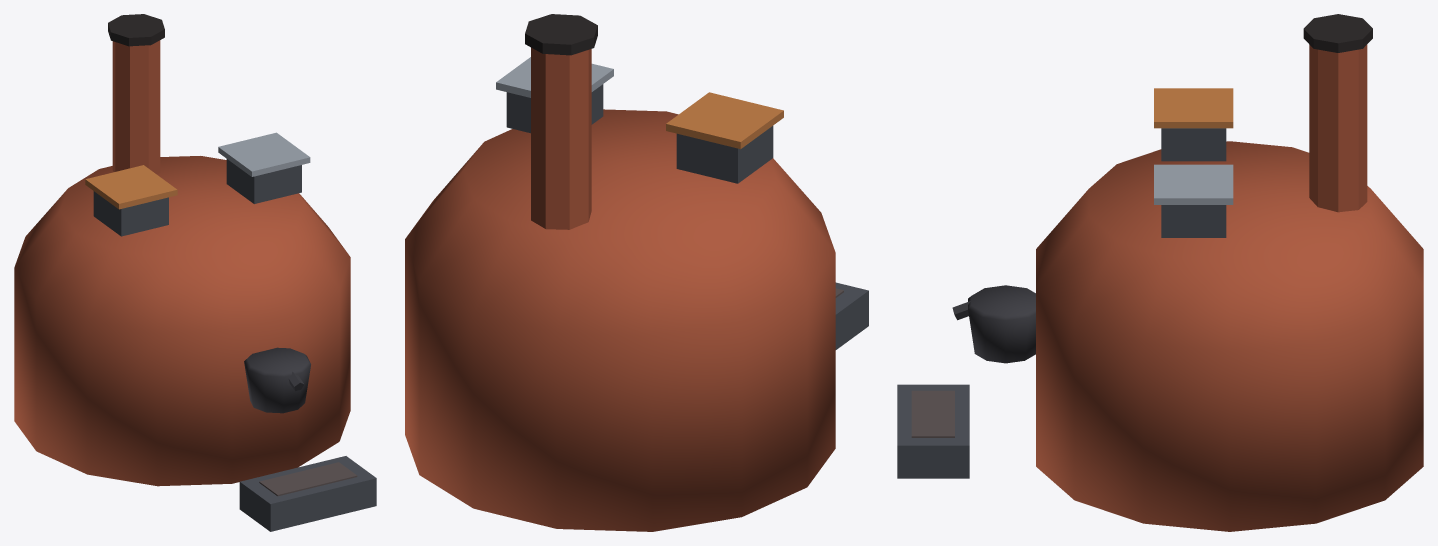
The model's file is AlloyFurnace@Run.fbx.
3 views of the same model, side by side, from view 1: azimuth 30°, elevation 25°; view 2: azimuth 150°, elevation 25°; view 3: azimuth 270°, elevation 25° (orthographic). The views are drawn at different scales.
Visible parts, largest first — view 1: AlloyFurnace_Body, AlloyFurnace_Crucible; view 2: AlloyFurnace_Body; view 3: AlloyFurnace_Body, AlloyFurnace_Crucible.
Part boxes in pixels (<box>): AlloyFurnace_Body: <box>14,14,376,531</box>; AlloyFurnace_Crucible: <box>244,347,310,413</box>; AlloyFurnace_Body: <box>405,14,868,531</box>; AlloyFurnace_Body: <box>897,14,1423,531</box>; AlloyFurnace_Crucible: <box>952,285,1035,363</box>.
Size of the model in its own units: 1.1 by 1.28 by 1.46.
